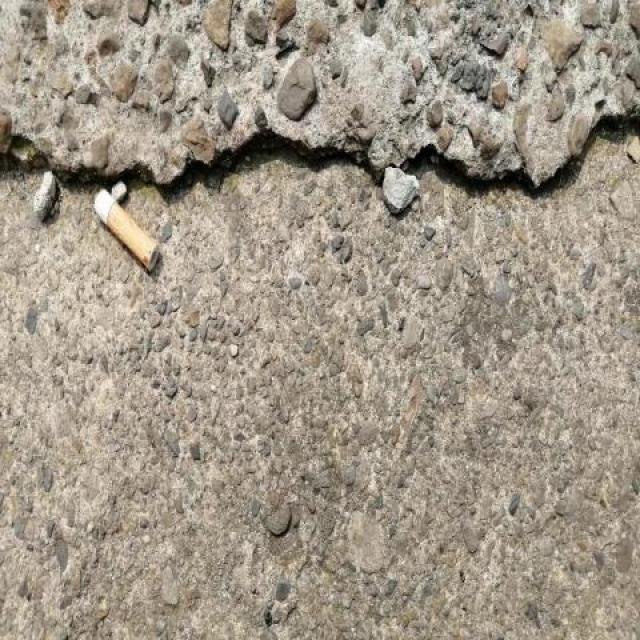non-organic waste: (87, 184, 162, 276)
